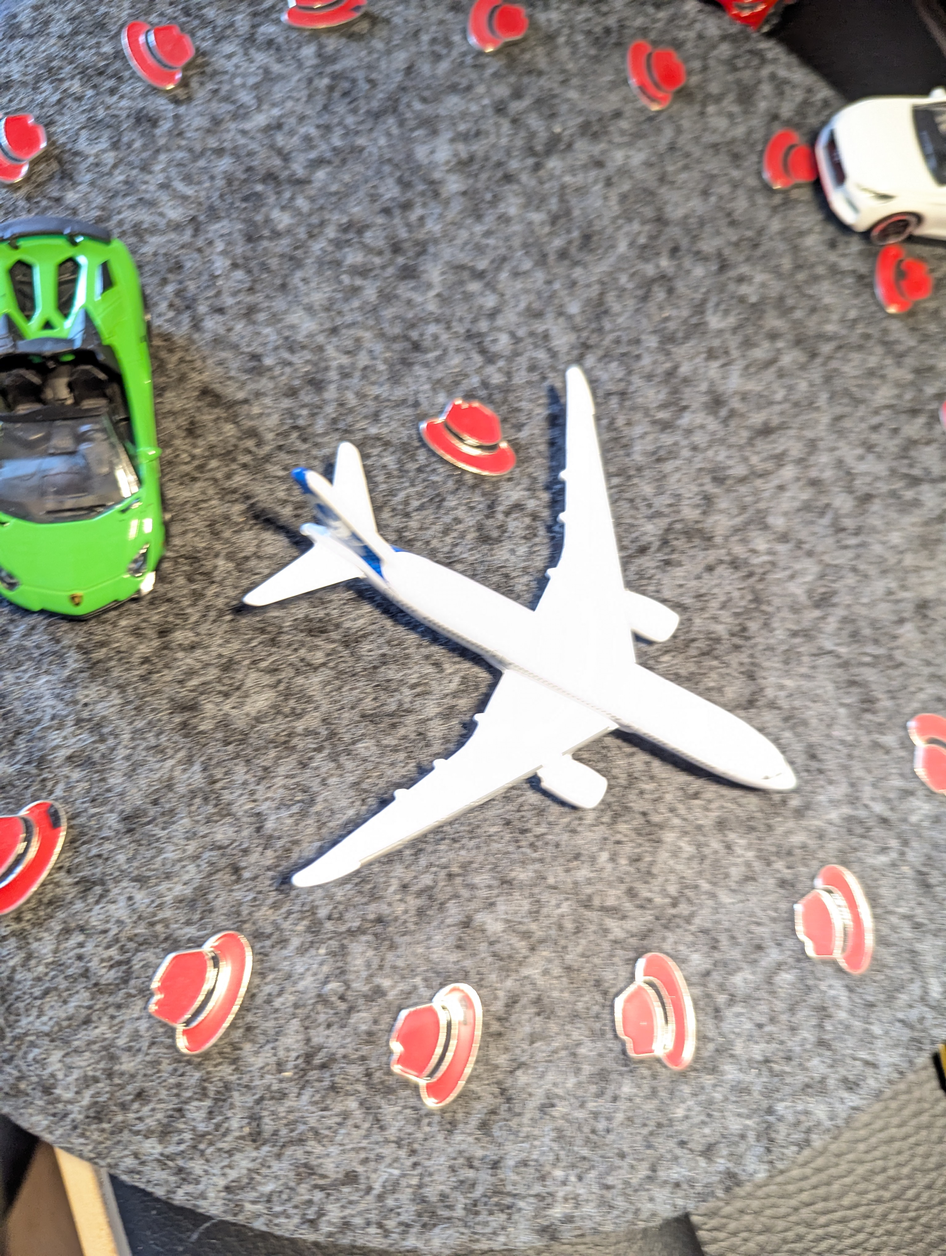Airplane: (226, 333, 814, 905)
Car: (0, 209, 184, 654), (802, 59, 946, 257)
Red-Hat: (373, 941, 500, 1132), (122, 905, 265, 1067), (604, 933, 712, 1101), (776, 848, 890, 998), (392, 371, 528, 483), (0, 776, 82, 930), (612, 26, 695, 130), (857, 220, 934, 328), (109, 10, 203, 98), (0, 93, 68, 206), (883, 697, 946, 811), (748, 121, 823, 200), (455, 0, 547, 59), (264, 0, 405, 32)
Scratch: (625, 67, 674, 121), (36, 791, 70, 839), (888, 256, 921, 290), (340, 0, 366, 15)
